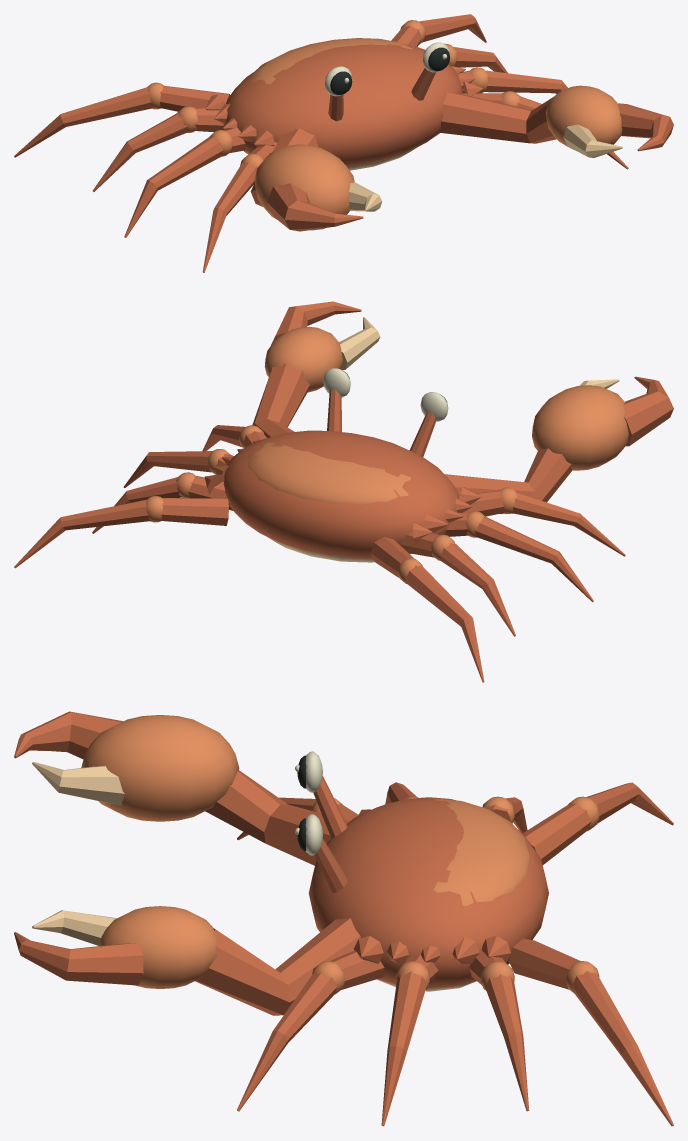
The model's file is WalkingCrab.fbx.
3 views of the same model, one above another, from view 1: azimuth 30°, elevation 25°; view 2: azimuth 150°, elevation 25°; view 3: azimuth 270°, elevation 25° (orthographic). The views are drawn at different scales.
Parts seen in each view (by area): view 1: SM_Carapace_Game, SM_Claw_Palm_Game, SM_Claw_Arm.001_Game, SM_Tapered_Jointed_Leg.003_Game, SM_Claw_Palm.001_Game, SM_Tapered_Jointed_Leg.001_Game, SM_Outer_Pincer_Game, SM_Tapered_Jointed_Leg.002_Game, SM_Tapered_Jointed_Leg_Game, SM_Upper_Carapace_Game, SM_Outer_Pincer.001_Game, SM_Tapered_Jointed_Leg.007_Game (+9 smaller); view 2: SM_Carapace_Game, SM_Claw_Palm_Game, SM_Upper_Carapace_Game, SM_Tapered_Jointed_Leg.007_Game, SM_Claw_Palm.001_Game, SM_Tapered_Jointed_Leg.003_Game, SM_Claw_Arm_Game, SM_Claw_Arm.001_Game, SM_Tapered_Jointed_Leg.001_Game, SM_Tapered_Jointed_Leg_Game, SM_Tapered_Jointed_Leg.002_Game, SM_Outer_Pincer_Game (+9 smaller); view 3: SM_Carapace_Game, SM_Claw_Palm_Game, SM_Claw_Arm.001_Game, SM_Claw_Palm.001_Game, SM_Upper_Carapace_Game, SM_Tapered_Jointed_Leg.007_Game, SM_Claw_Arm_Game, SM_Outer_Pincer.001_Game, SM_Tapered_Jointed_Leg.004_Game, SM_Tapered_Jointed_Leg.003_Game, SM_Tapered_Jointed_Leg.005_Game, SM_Tapered_Jointed_Leg.006_Game (+5 smaller).
Boxes of the visible parts, left/top/right/bottom form: SM_Carapace_Game: left=223, top=44, right=462, bottom=166; SM_Claw_Palm_Game: left=254, top=144, right=354, bottom=230; SM_Claw_Arm.001_Game: left=438, top=92, right=556, bottom=143; SM_Tapered_Jointed_Leg.003_Game: left=14, top=86, right=229, bottom=157; SM_Claw_Palm.001_Game: left=546, top=85, right=622, bottom=149; SM_Tapered_Jointed_Leg.001_Game: left=124, top=127, right=245, bottom=237; SM_Outer_Pincer_Game: left=267, top=183, right=363, bottom=231; SM_Tapered_Jointed_Leg.002_Game: left=92, top=108, right=224, bottom=191; SM_Tapered_Jointed_Leg_Game: left=202, top=141, right=277, bottom=272; SM_Upper_Carapace_Game: left=248, top=38, right=412, bottom=85; SM_Outer_Pincer.001_Game: left=618, top=103, right=673, bottom=151; SM_Tapered_Jointed_Leg.007_Game: left=391, top=14, right=486, bottom=46; SM_Carapace_Game: left=223, top=430, right=459, bottom=558; SM_Claw_Palm_Game: left=532, top=385, right=628, bottom=470; SM_Upper_Carapace_Game: left=247, top=442, right=410, bottom=504; SM_Tapered_Jointed_Leg.007_Game: left=14, top=498, right=228, bottom=568; SM_Claw_Palm.001_Game: left=264, top=326, right=342, bottom=392; SM_Tapered_Jointed_Leg.003_Game: left=370, top=537, right=484, bottom=682; SM_Claw_Arm_Game: left=444, top=448, right=572, bottom=513; SM_Claw_Arm.001_Game: left=252, top=363, right=309, bottom=437; SM_Tapered_Jointed_Leg.001_Game: left=446, top=512, right=593, bottom=602; SM_Tapered_Jointed_Leg_Game: left=459, top=490, right=625, bottom=556; SM_Tapered_Jointed_Leg.002_Game: left=400, top=531, right=515, bottom=636; SM_Outer_Pincer_Game: left=623, top=376, right=673, bottom=446; SM_Carapace_Game: left=308, top=797, right=548, bottom=988; SM_Claw_Palm_Game: left=81, top=715, right=239, bottom=821; SM_Claw_Arm.001_Game: left=195, top=918, right=360, bottom=1015; SM_Claw_Palm.001_Game: left=99, top=906, right=217, bottom=988; SM_Upper_Carapace_Game: left=434, top=798, right=530, bottom=905; SM_Tapered_Jointed_Leg.007_Game: left=509, top=938, right=673, bottom=1126; SM_Claw_Arm_Game: left=205, top=770, right=349, bottom=865; SM_Outer_Pincer.001_Game: left=14, top=932, right=143, bottom=985; SM_Tapered_Jointed_Leg.004_Game: left=237, top=951, right=385, bottom=1111; SM_Tapered_Jointed_Leg.003_Game: left=522, top=782, right=673, bottom=864; SM_Tapered_Jointed_Leg.005_Game: left=381, top=954, right=438, bottom=1126; SM_Tapered_Jointed_Leg.006_Game: left=469, top=950, right=529, bottom=1111.
Bounding box in the file's own units: 203 × 59.67 × 187.
